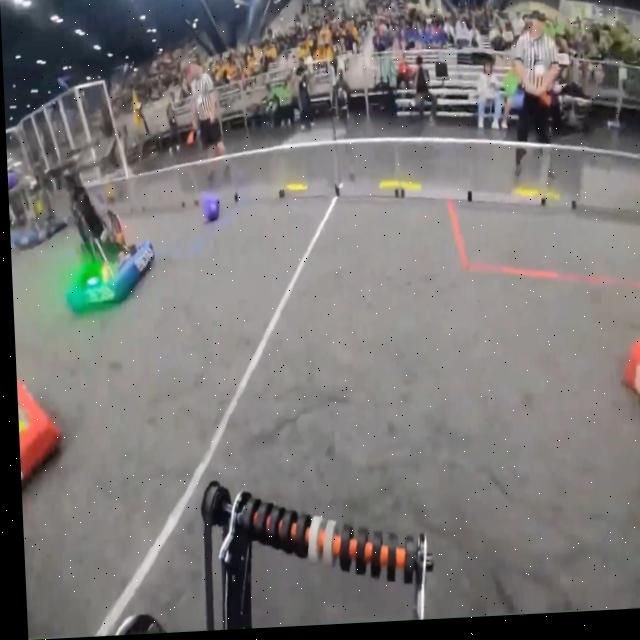robot: (58, 164, 155, 317), (13, 374, 59, 488), (8, 181, 66, 252), (620, 341, 640, 430)
